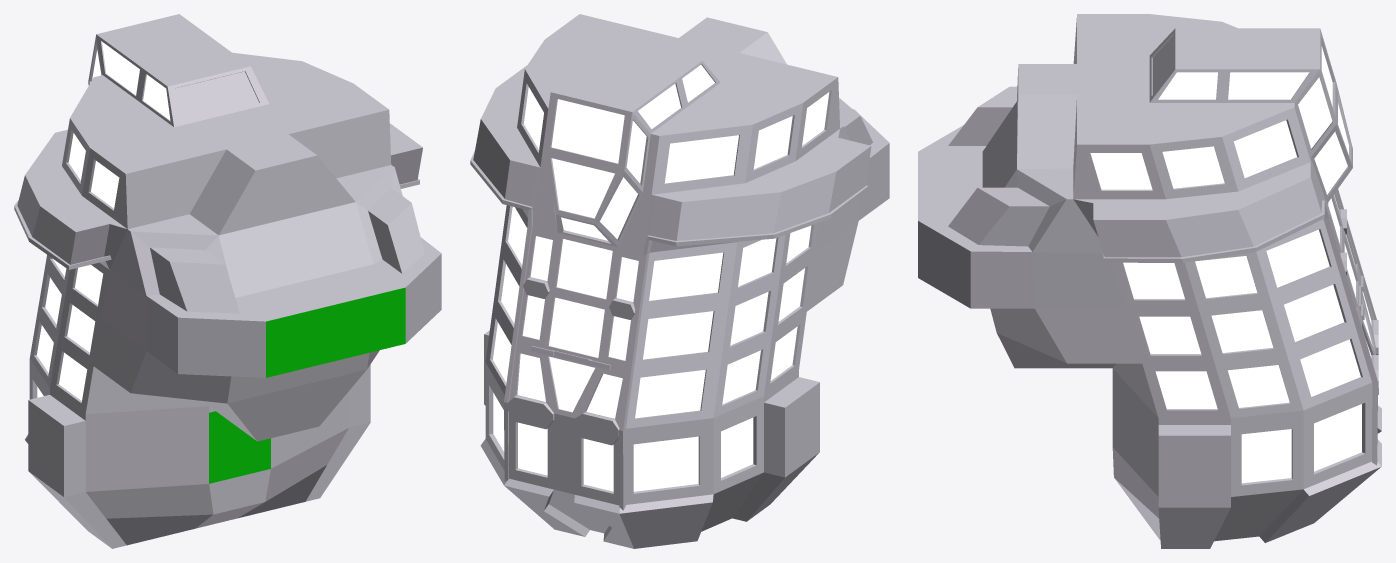
The model's file is Bridge.BeerBelly.fbx.
3 renders of one model, left to right at view 1: azimuth 30°, elevation 25°; view 2: azimuth 150°, elevation 25°; view 3: azimuth 270°, elevation 25°, orthographic. The views are drawn at different scales.
Parts seen in each view (by area): view 1: Bridge.BeerBelly; view 2: Bridge.BeerBelly; view 3: Bridge.BeerBelly.
Boxes of the visible parts, x1=… form: Bridge.BeerBelly: x1=14, y1=14, x2=441, y2=548; Bridge.BeerBelly: x1=470, y1=14, x2=889, y2=548; Bridge.BeerBelly: x1=918, y1=14, x2=1381, y2=548.
Size of the model in its own units: 1.85 by 2.25 by 2.08.
